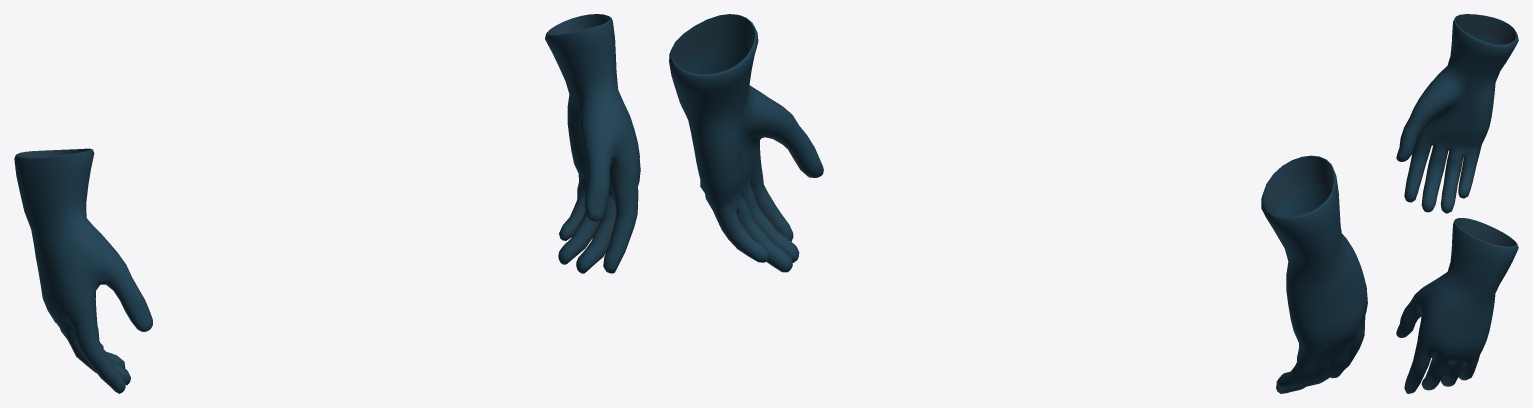
The model's file is GuanteDielectrico.fbx.
3 views of the same model, side by side, from view 1: azimuth 30°, elevation 25°; view 2: azimuth 150°, elevation 25°; view 3: azimuth 270°, elevation 25° (orthographic). The views are drawn at different scales.
Visible parts, largest first — view 1: guantes; view 2: guantes; view 3: guantes.
Part boxes in pixels (x1,y1,x2,y2): guantes: [14, 14, 640, 393]; guantes: [669, 14, 1367, 393]; guantes: [1396, 14, 1518, 393].
Size of the model in its own units: 77.81 by 28.59 by 17.57.
1 material, 1 textured.
